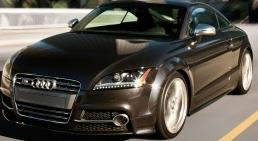front_view: (1, 55, 158, 135)
headlight: (89, 67, 155, 91)
side_glass: (186, 7, 231, 38)
